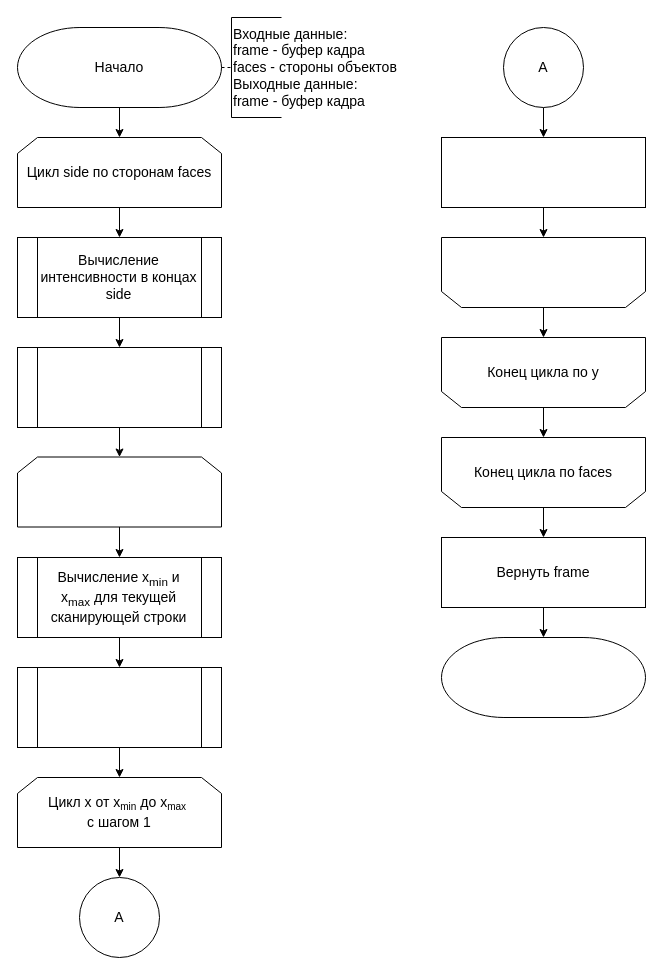
Some shapes in this 663 by 975 pixel diagram are drawn without their labels. The box of each missing label's shape, as (x1, y1, x2, y2) in pixels:
Вычисление y min и y max для side: (16, 346, 222, 428)
Вычисление интенсивности для x min и x max линейной интерполяцией: (16, 666, 222, 748)
Вычисление интенсивности пикселя (x; y) линейной интерполяцией: (440, 136, 646, 208)
Конец: (440, 636, 646, 718)
Конец цикла по x: (440, 236, 646, 308)
Цикл y от y min до y max с шагом 1: (16, 456, 222, 527)
